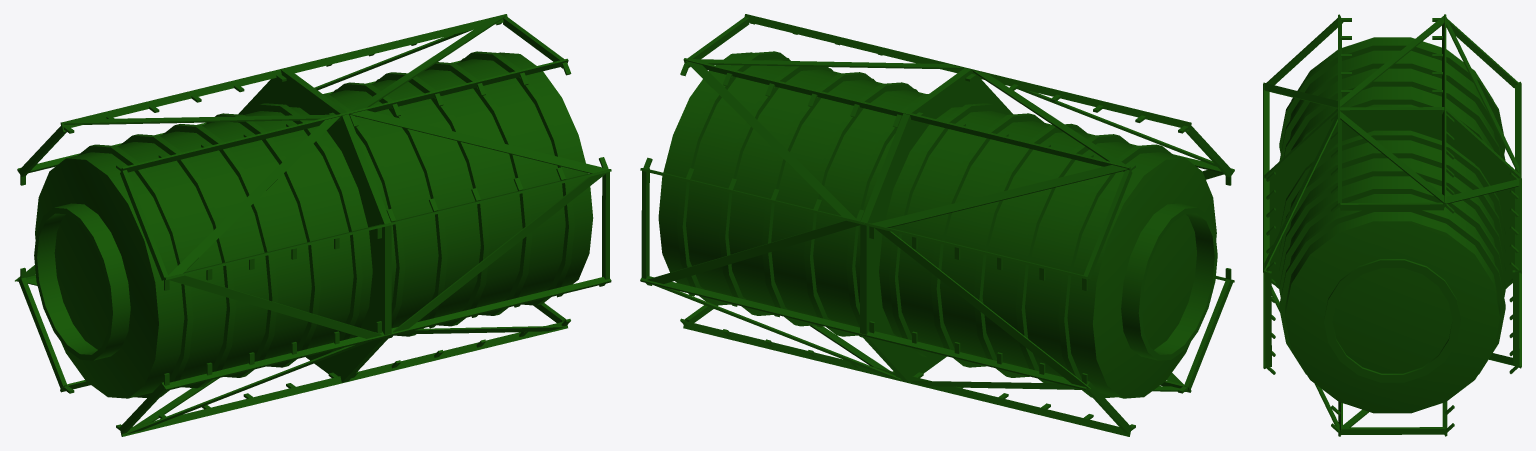
Rendered from ExteriorPiece_Arm01.FBX.
The picture shows the model from 3 angles, left to right: view 1: azimuth 30°, elevation 25°; view 2: azimuth 150°, elevation 25°; view 3: azimuth 270°, elevation 25°; orthographic projection. The views are drawn at different scales.
Parts seen in each view (by area): view 1: ExteriorPiece_Arm_01; view 2: ExteriorPiece_Arm_01; view 3: ExteriorPiece_Arm_01.
Part boxes in pixels (<box>): ExteriorPiece_Arm_01: <box>15,14,611,436</box>; ExteriorPiece_Arm_01: <box>640,14,1234,436</box>; ExteriorPiece_Arm_01: <box>1263,14,1521,436</box>.
Bounding box in the file's own units: 1005 × 556 × 555.
